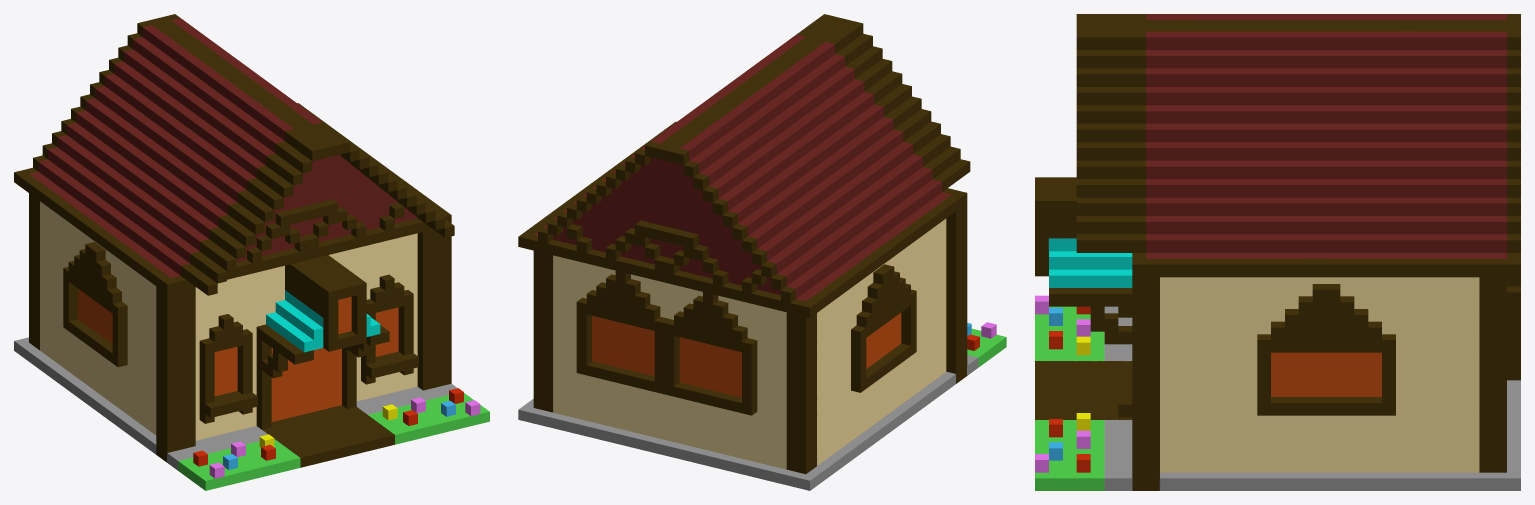
File: House_4.fbx
3 views of the same model, side by side, from view 1: azimuth 30°, elevation 25°; view 2: azimuth 150°, elevation 25°; view 3: azimuth 270°, elevation 25° (orthographic). The views are drawn at different scales.
Visible parts, largest first — view 1: House_4; view 2: House_4; view 3: House_4.
Part boxes in pixels (<box>): House_4: <box>14,14,489,490</box>; House_4: <box>518,14,1006,490</box>; House_4: <box>1035,14,1520,490</box>.
Bounding box in the file's own units: 30 × 30 × 35.
1 material, 1 textured.
